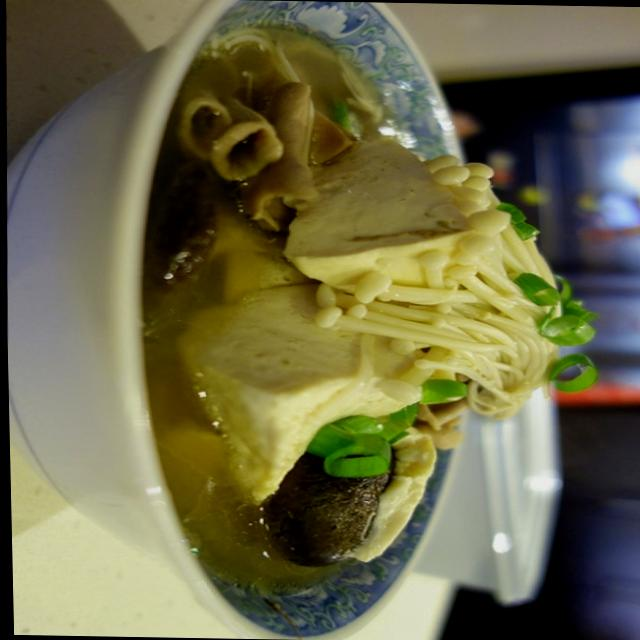汤锅炖物: (118, 18, 637, 584)
